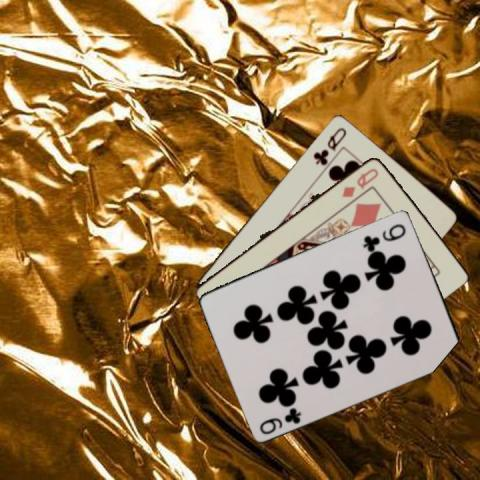9c: (256, 404, 302, 436), (360, 220, 407, 250)
Qc: (310, 124, 348, 167)
Qd: (339, 164, 380, 198)
